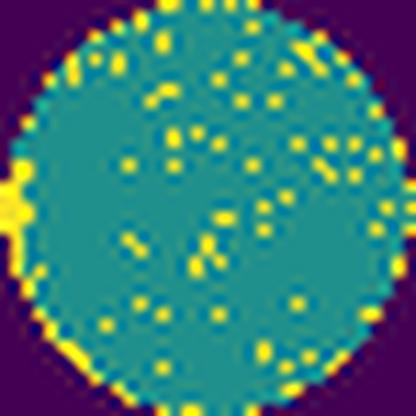Edge-Loc: (0, 154, 52, 297), (34, 310, 104, 387)
